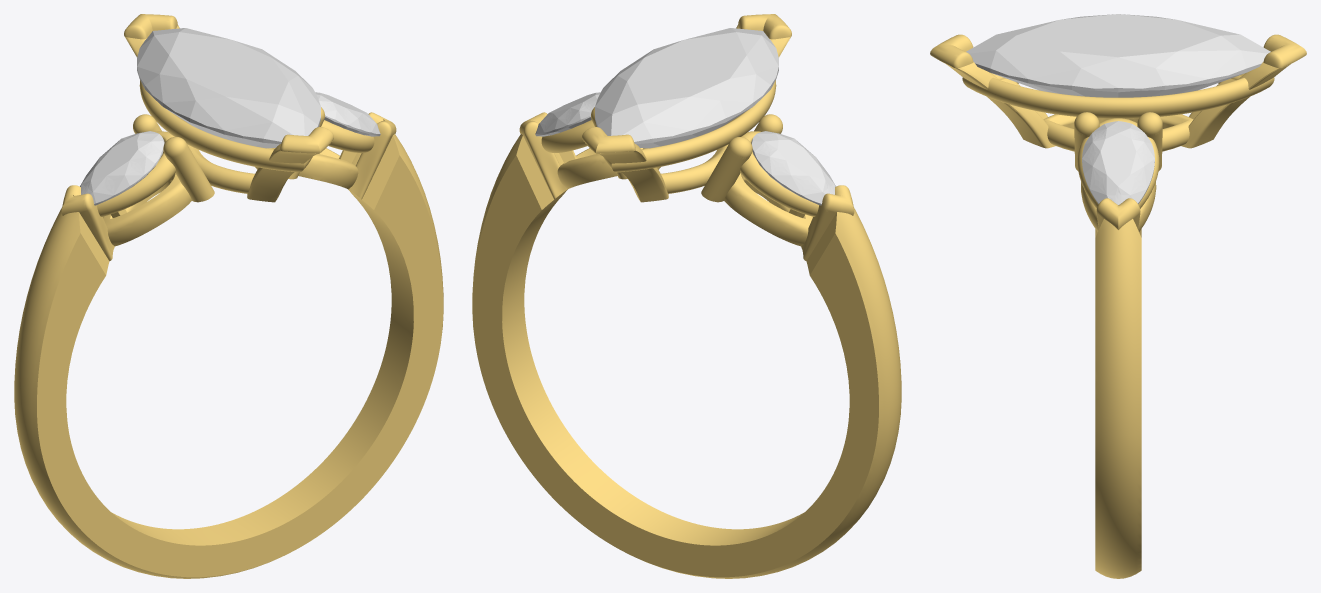
The model's file is JustinYGprongENG_blender.glb.
3 renders of one model, left to right at view 1: azimuth 30°, elevation 25°; view 2: azimuth 150°, elevation 25°; view 3: azimuth 270°, elevation 25°, orthographic. The views are drawn at different scales.
Visible parts, largest first — view 1: NEW Justin YG for 3d model, Justin marquise dia for 3d model, Justin 5x3 pear dia for 3d model.001, Justin 5x3 pear dia for 3d model; view 2: NEW Justin YG for 3d model, Justin marquise dia for 3d model, Justin 5x3 pear dia for 3d model.001, Justin 5x3 pear dia for 3d model; view 3: NEW Justin YG for 3d model, Justin marquise dia for 3d model, Justin 5x3 pear dia for 3d model.
Boxes of the visible parts, box(x1,y1,x2,y2) form: NEW Justin YG for 3d model: box(14, 14, 443, 578); Justin marquise dia for 3d model: box(137, 28, 320, 148); Justin 5x3 pear dia for 3d model.001: box(80, 131, 164, 205); Justin 5x3 pear dia for 3d model: box(315, 92, 380, 136); NEW Justin YG for 3d model: box(472, 14, 901, 578); Justin marquise dia for 3d model: box(595, 28, 778, 148); Justin 5x3 pear dia for 3d model.001: box(751, 131, 835, 205); Justin 5x3 pear dia for 3d model: box(535, 92, 600, 136); NEW Justin YG for 3d model: box(930, 34, 1306, 578); Justin marquise dia for 3d model: box(966, 14, 1270, 97); Justin 5x3 pear dia for 3d model: box(1082, 121, 1154, 204).
Size of the model in its own units: 20.72 by 23.65 by 15.53.
